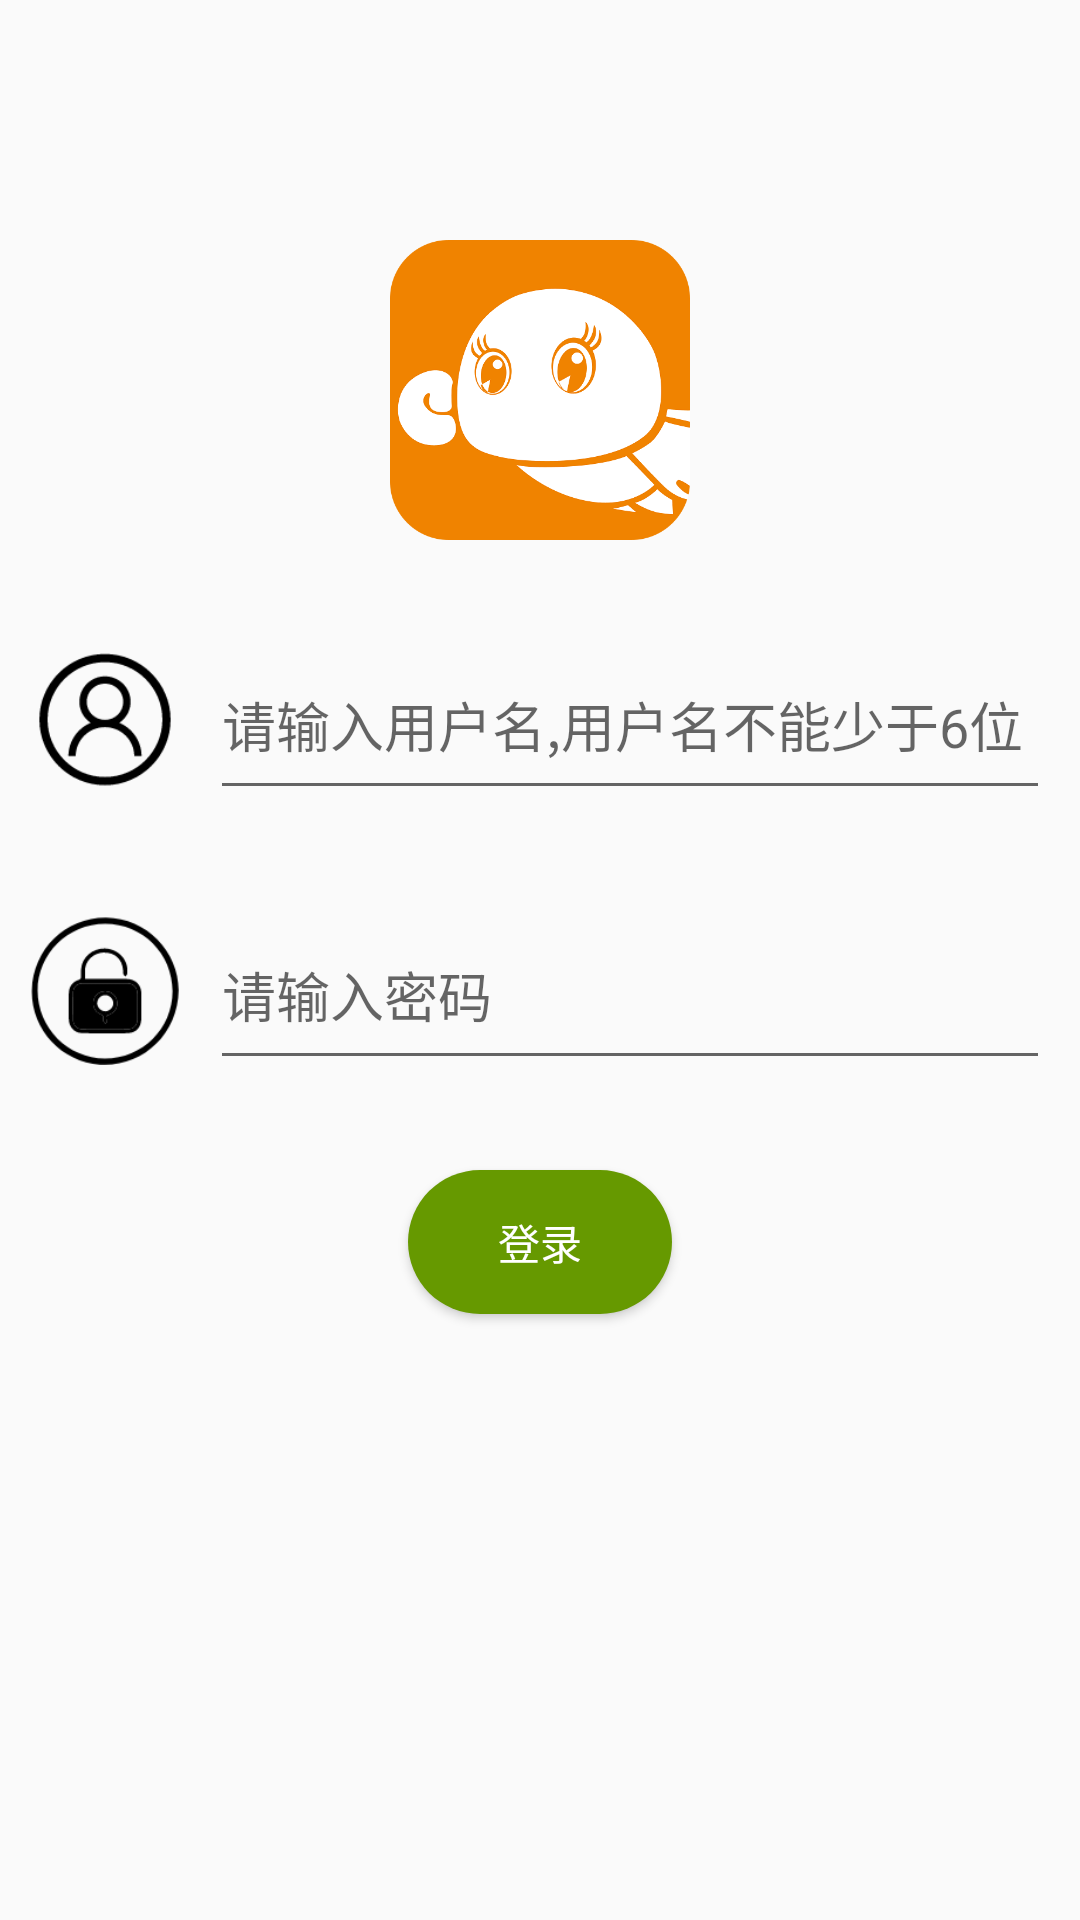

Screen size 1080x1920. Icon name, then its box in pixels as (x1=x1, y1=y1, x2=x2, y2=y2):
pass: (x1=31, y1=917, x2=179, y2=1065)
user: (x1=39, y1=653, x2=171, y2=786)
